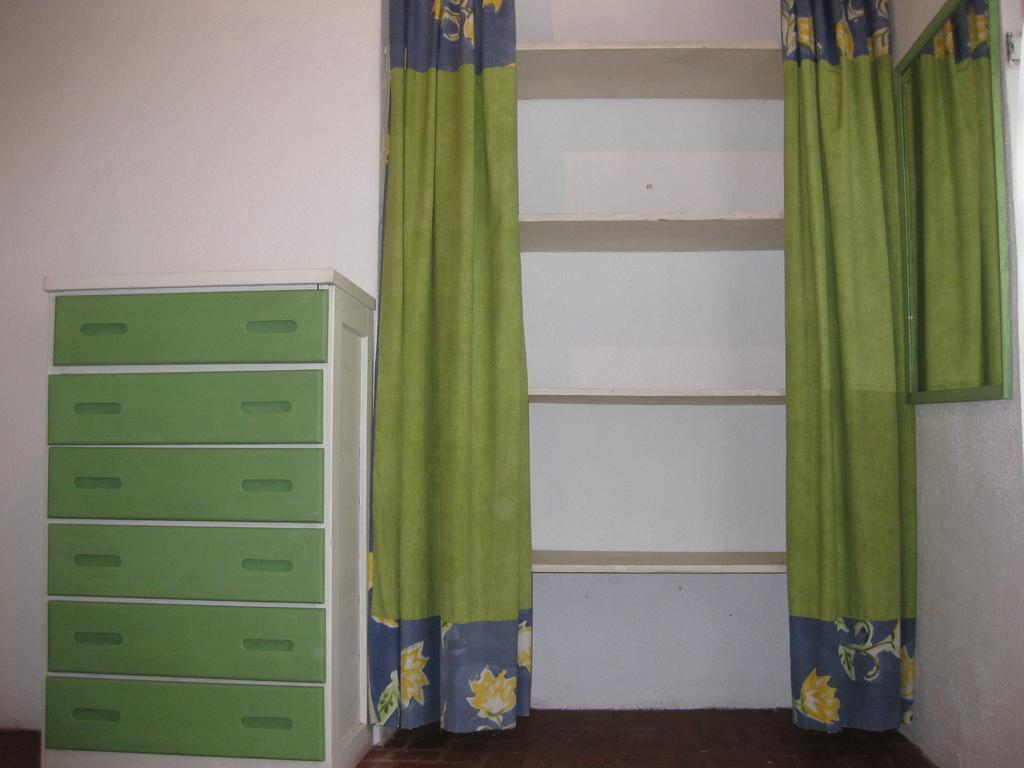cabinet_door: (56, 679, 322, 752), (50, 601, 322, 672), (54, 527, 328, 594), (52, 456, 318, 520), (44, 380, 318, 438), (60, 300, 322, 360)
handle: (240, 473, 303, 506), (236, 705, 298, 737), (64, 624, 126, 655), (244, 632, 298, 660), (68, 546, 123, 572), (242, 554, 296, 580), (235, 398, 296, 421), (72, 392, 122, 420), (64, 702, 122, 725), (246, 319, 308, 340), (71, 477, 120, 498), (80, 319, 132, 337)
